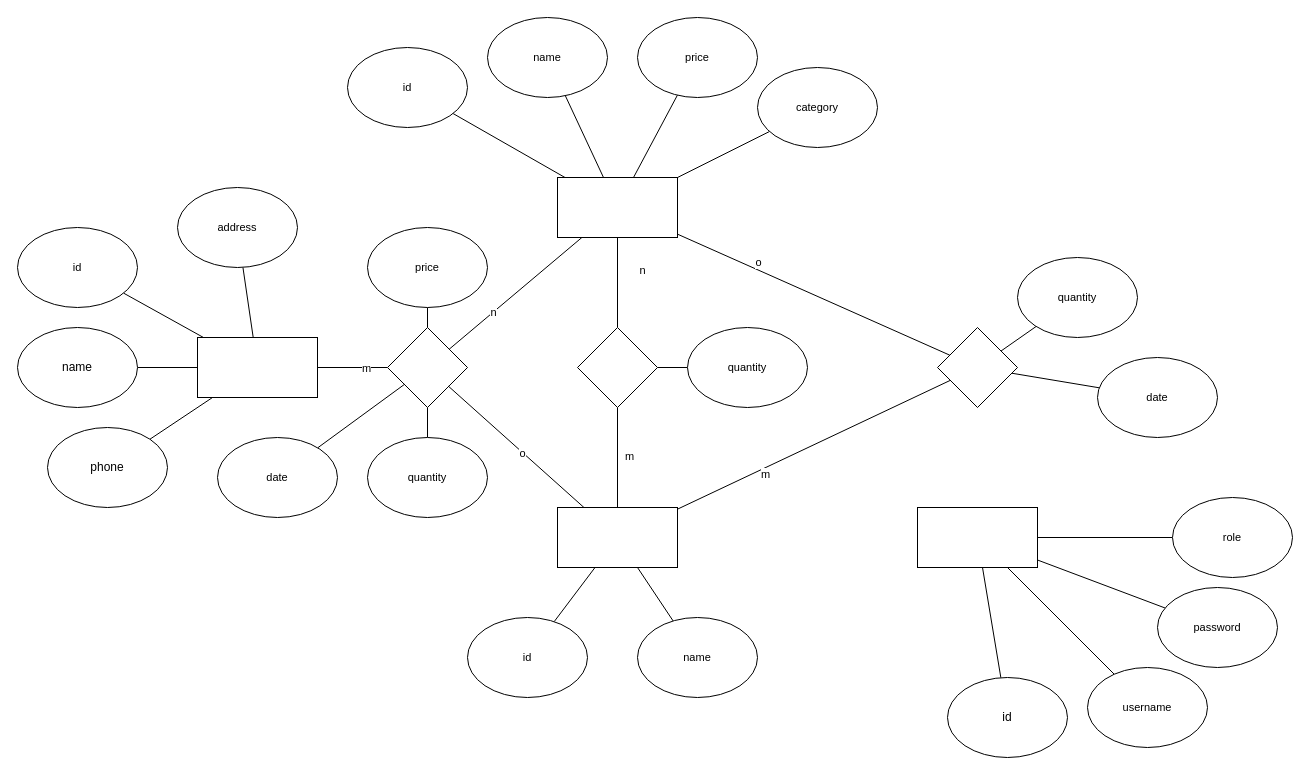
Some shapes in this 1310 by 775 pixel diagram are drawn without their labels. Here are the shapes that lost their labels. From the top down, the box of each, then its label:
(556, 176, 678, 238): product
(196, 336, 318, 398): suppliers
(386, 326, 468, 408): supply
(576, 326, 658, 408): store
(936, 326, 1018, 408): sell
(556, 506, 678, 568): warehouse
(916, 506, 1038, 568): user
